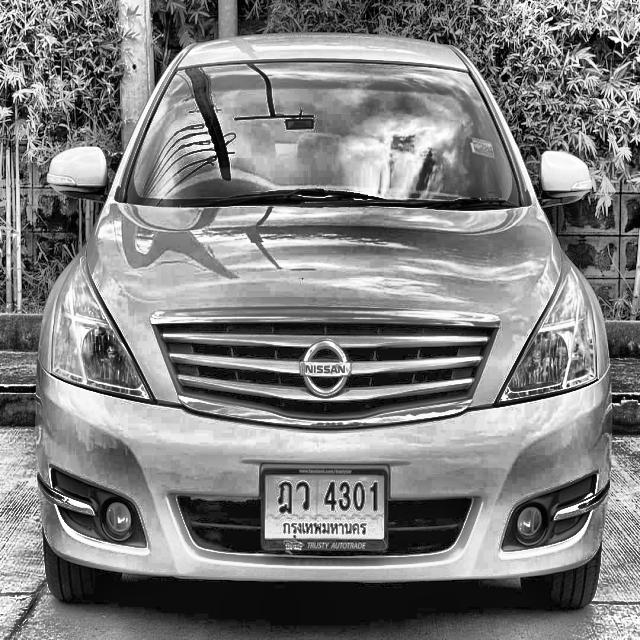license-plate: (258, 465, 392, 560)
